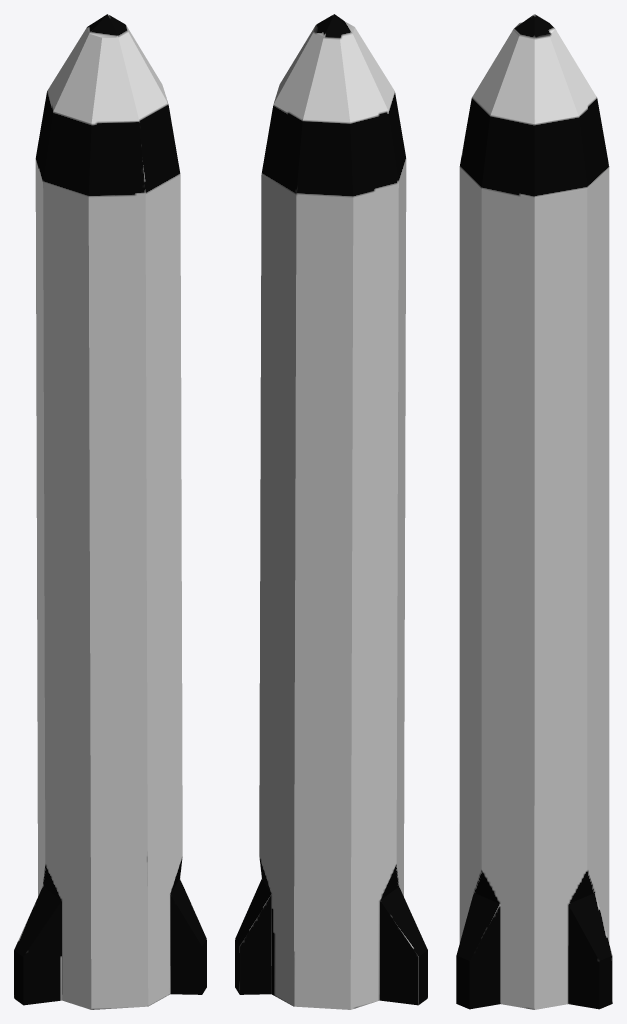
File: Misil Final.fbx
The picture shows the model from 3 angles, left to right: view 1: azimuth 30°, elevation 25°; view 2: azimuth 150°, elevation 25°; view 3: azimuth 270°, elevation 25°; orthographic projection.
Visible parts, largest first — view 1: Misiles; view 2: Misiles; view 3: Misiles.
Part boxes in pixels (box(x1,y1,x2,y2)): Misiles: box(14, 14, 206, 1009); Misiles: box(235, 14, 427, 1009); Misiles: box(456, 14, 612, 1009).
Size of the model in its own units: 24.33 by 143 by 21.01.
Materials: 1 (1 with a texture image).
